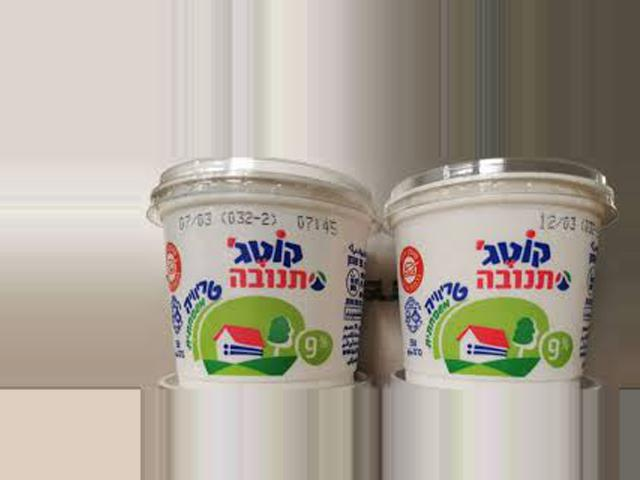cotage: (380, 163, 595, 391)
